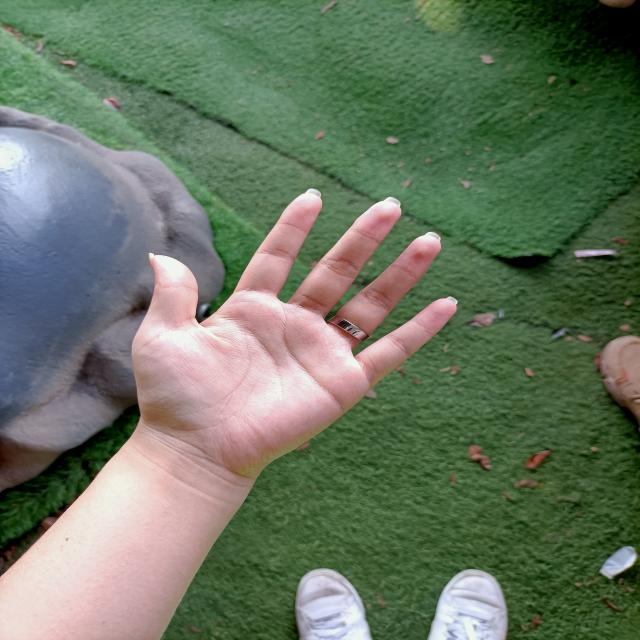no_glove: (111, 173, 475, 478)
